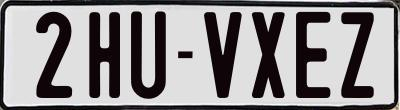2: (33, 11, 71, 99)
E: (295, 10, 331, 101)
H: (89, 11, 120, 103)
U: (130, 9, 171, 101)
V: (202, 11, 244, 101)
X: (250, 11, 285, 101)
Z: (341, 11, 377, 97)
